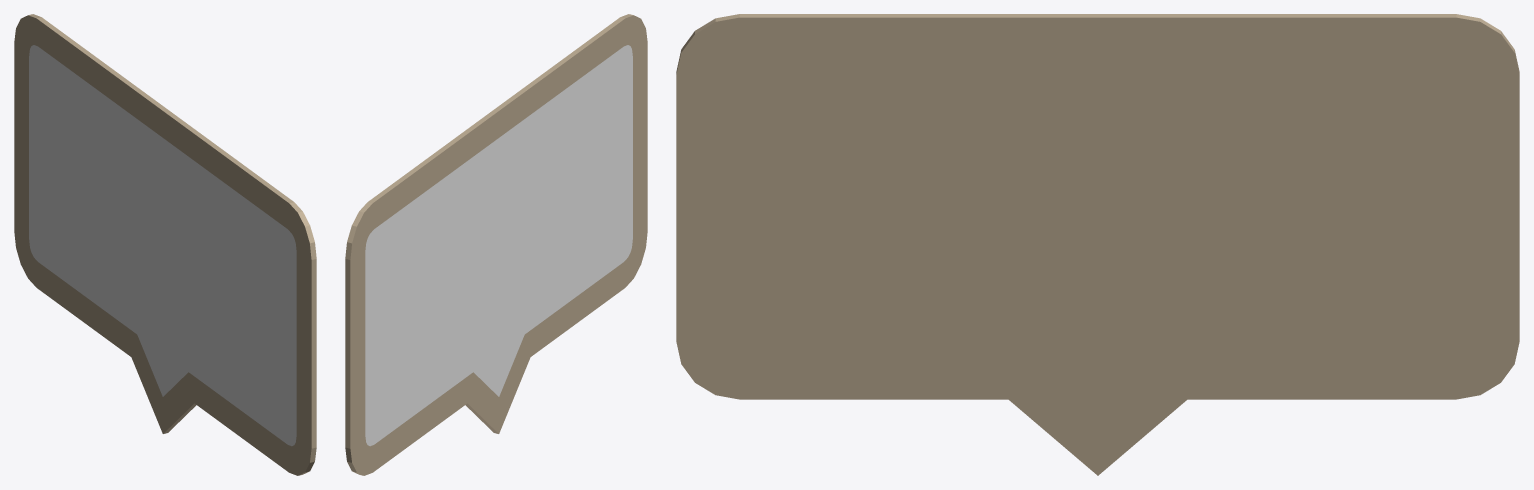
File: G01_032_Talk_Null.fbx
3 renders of one model, left to right at view 1: azimuth 30°, elevation 25°; view 2: azimuth 150°, elevation 25°; view 3: azimuth 270°, elevation 25°, orthographic. The views are drawn at different scales.
Parts seen in each view (by area): view 1: 001_TalkBox_W; view 2: 001_TalkBox_W; view 3: 001_TalkBox_W.
Part boxes in pixels (x1,y1,x2,y2): 001_TalkBox_W: [14, 14, 316, 475]; 001_TalkBox_W: [345, 14, 647, 475]; 001_TalkBox_W: [676, 14, 1519, 475].
Size of the model in its own units: 2 by 120 by 200.
